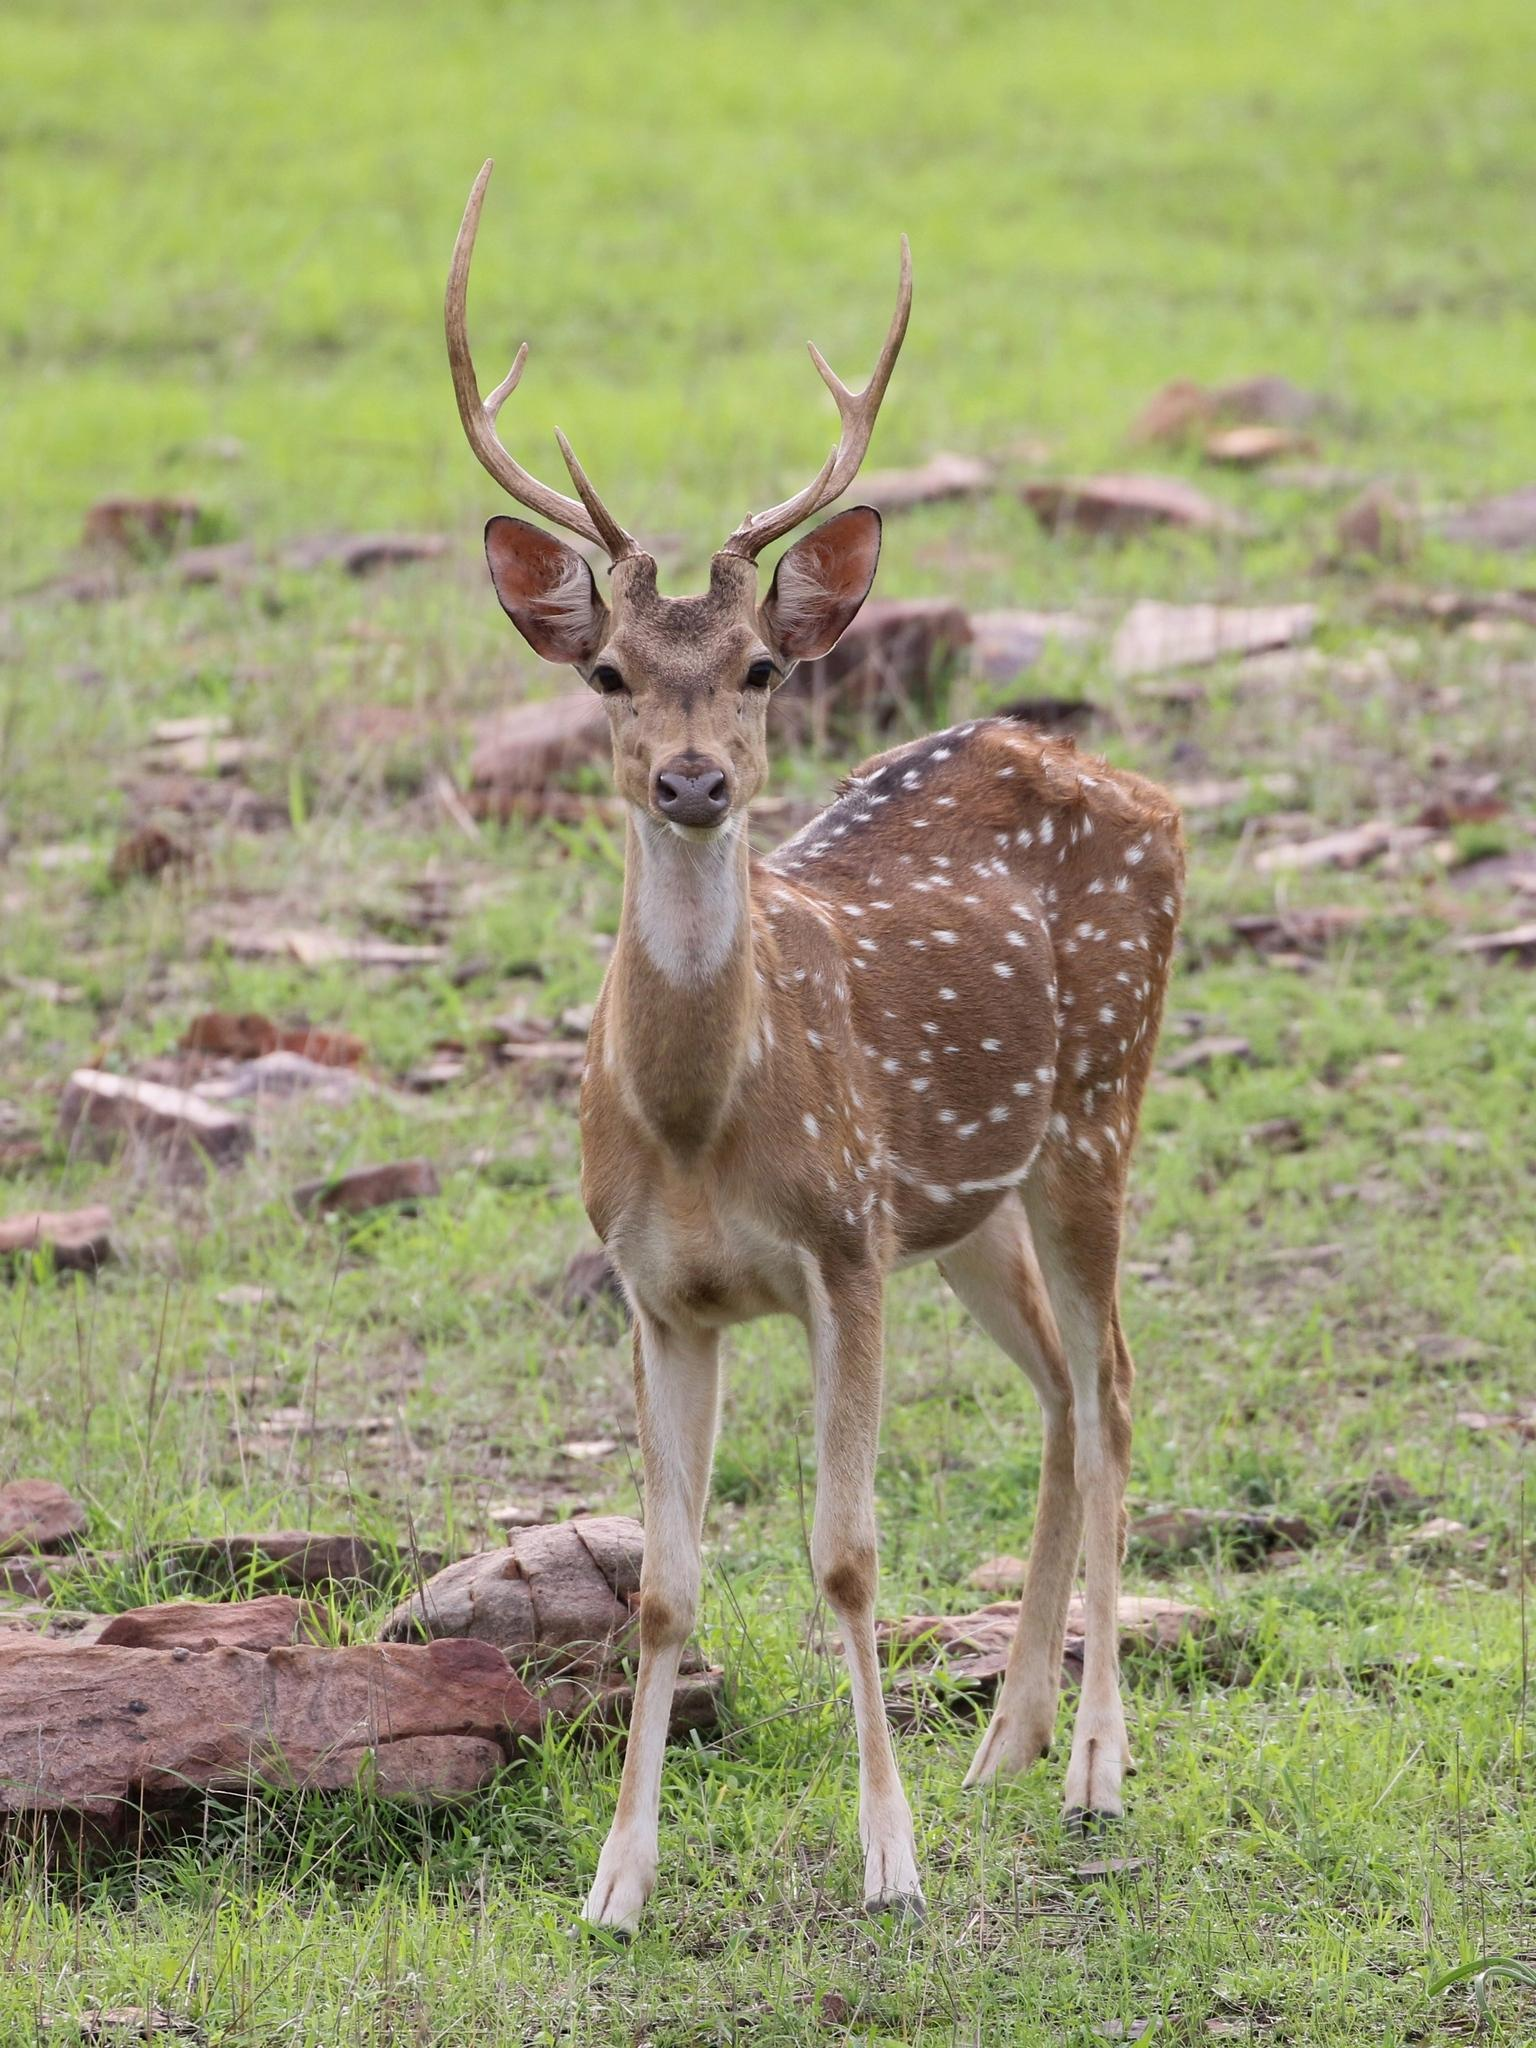Deer: (445, 163, 1184, 1930)
